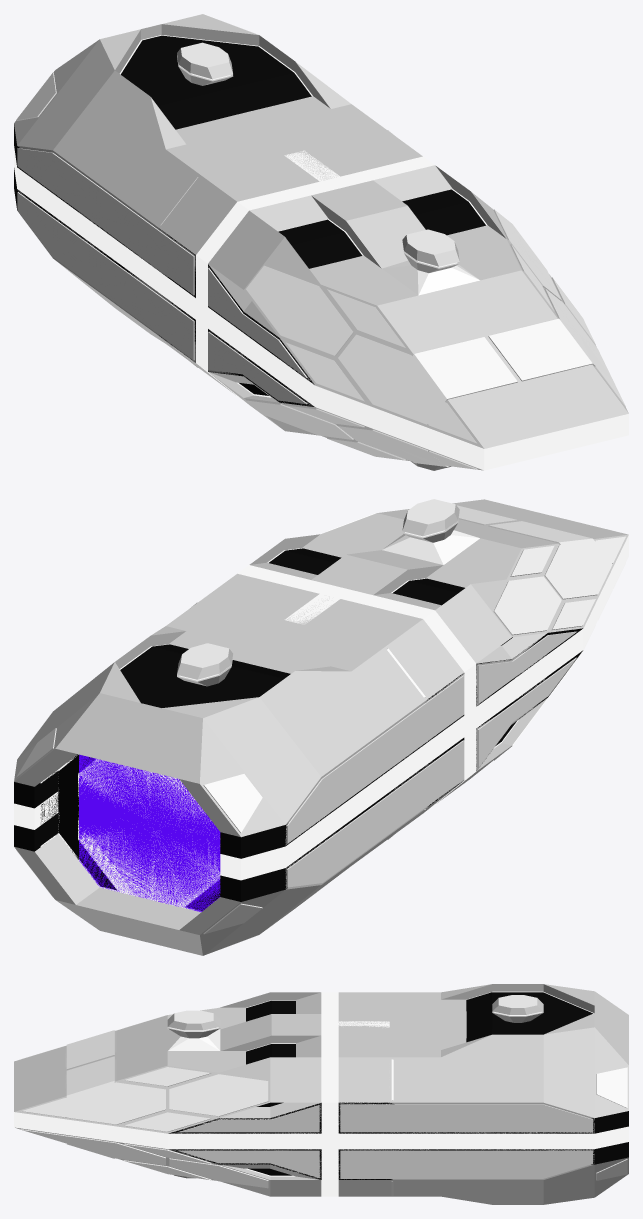
The model's file is 329-4-Emerald.glb.
3 renders of one model, top to bottom at view 1: azimuth 30°, elevation 25°; view 2: azimuth 150°, elevation 25°; view 3: azimuth 270°, elevation 25°, orthographic. The views are drawn at different scales.
Parts seen in each view (by area): view 1: Core.007, Core.006, Core.004, Core.003, Core.009, Core.010, Core.005; view 2: Core.006, Core.003, Core.007, Core.004, Core.010, Core.009, Core.008, Core.005; view 3: Core.006, Core.007, Core.003, Core.004, Core.009, Core.010, Core.005, Core.008.
Boxes of the visible parts, x1,y1,x2,y2 form: Core.007: (208, 166, 628, 470); Core.006: (17, 14, 389, 368); Core.004: (202, 161, 628, 470); Core.003: (14, 66, 428, 398); Core.009: (208, 265, 627, 466); Core.010: (16, 42, 393, 367); Core.005: (281, 240, 627, 469); Core.006: (18, 600, 464, 955); Core.003: (14, 569, 470, 939); Core.007: (249, 499, 626, 802); Core.004: (244, 499, 628, 806); Core.010: (16, 596, 425, 934); Core.009: (457, 505, 626, 770); Core.008: (40, 632, 329, 910); Core.005: (327, 500, 627, 692); Core.006: (338, 984, 628, 1204); Core.007: (14, 992, 321, 1196); Core.003: (330, 992, 628, 1196); Core.004: (14, 992, 329, 1196); Core.009: (18, 1030, 321, 1178); Core.010: (338, 995, 628, 1195); Core.005: (16, 1008, 216, 1180); Core.008: (441, 999, 466, 1049).
Bounding box in the file's own units: 6.55 × 6 × 18.
